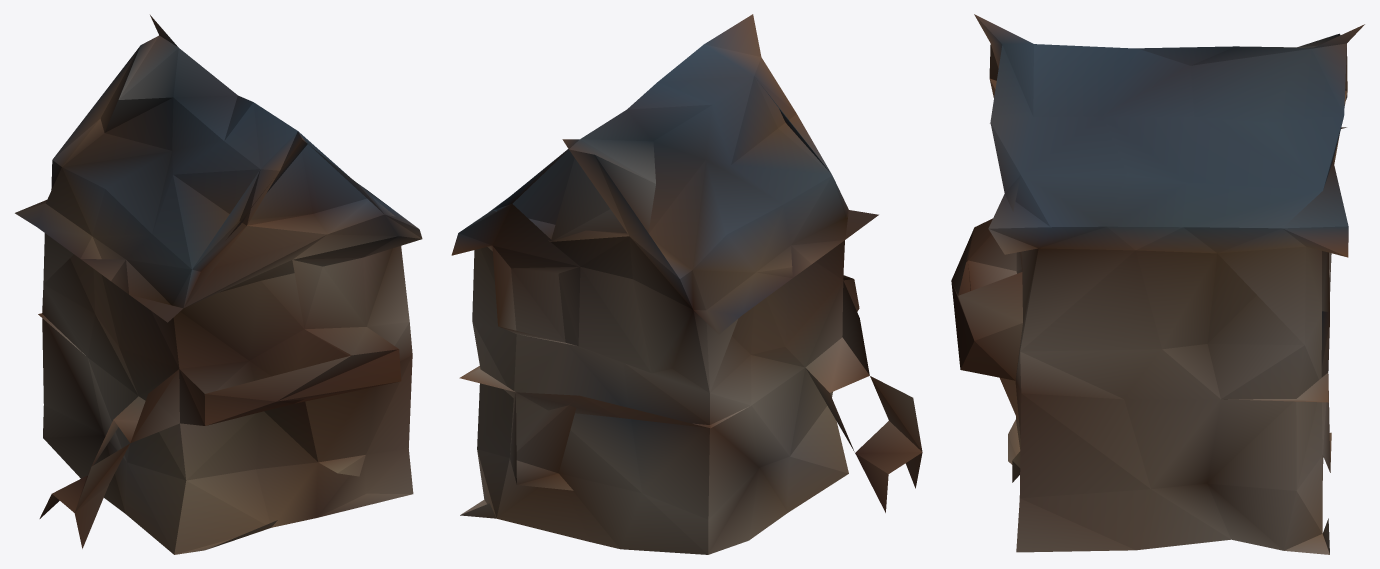
Rendered from village-stonehouse.glb.
3 renders of one model, left to right at view 1: azimuth 30°, elevation 25°; view 2: azimuth 150°, elevation 25°; view 3: azimuth 270°, elevation 25°, orthographic. The views are drawn at different scales.
Visible parts, largest first — view 1: village-stonehouse-far; view 2: village-stonehouse-far; view 3: village-stonehouse-far.
Boxes of the visible parts, x1,y1,x2,y2 form: village-stonehouse-far: (15,15,422,554); village-stonehouse-far: (451,14,922,554); village-stonehouse-far: (951,14,1364,554).
Bounding box in the file's own units: 7.23 × 8.44 × 6.77.
